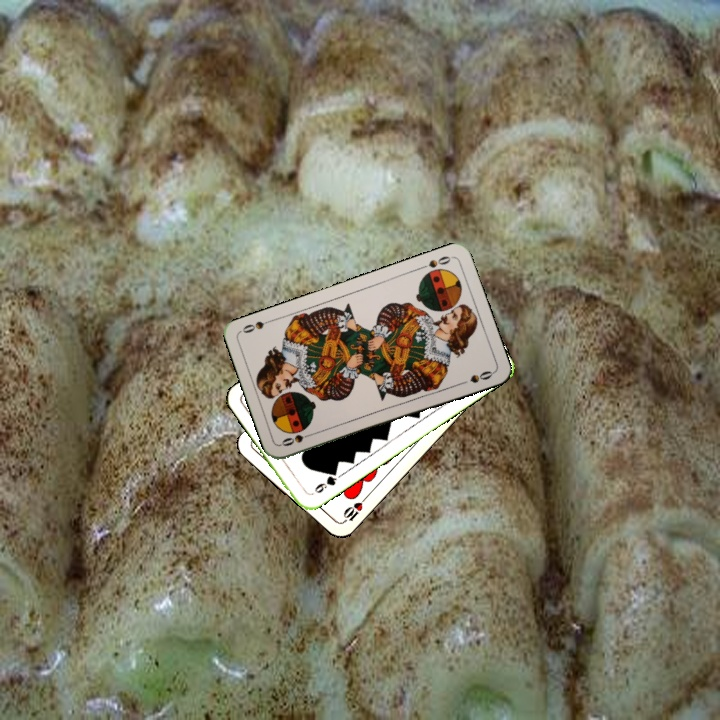G9: (310, 467, 340, 496)
H10: (338, 493, 370, 526)
SO: (277, 429, 317, 449), (415, 252, 455, 272)
